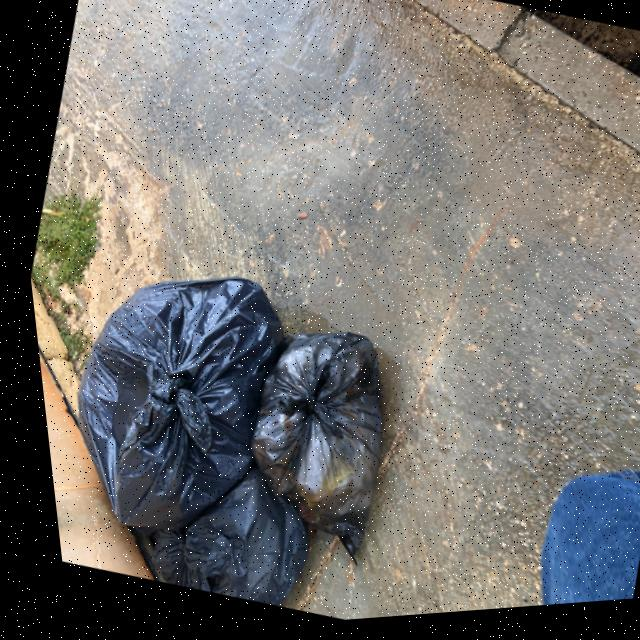Mixed Waste -Black Bag-: (23, 239, 310, 566), (204, 311, 413, 575), (116, 444, 320, 623)
